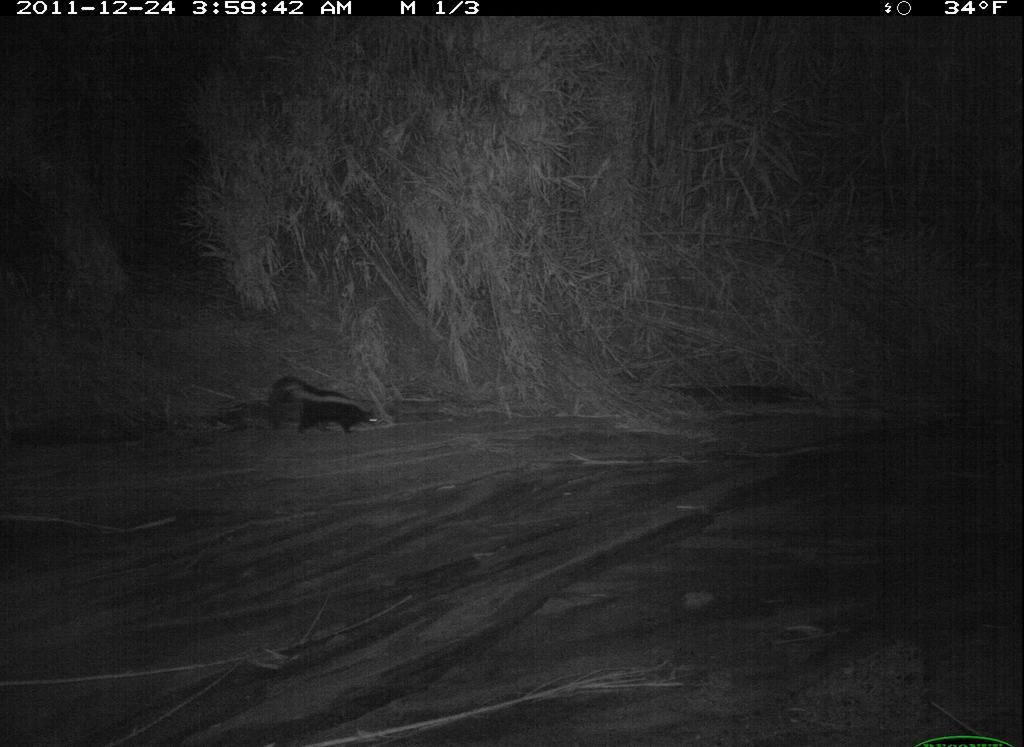skunk: (264, 368, 391, 445)
